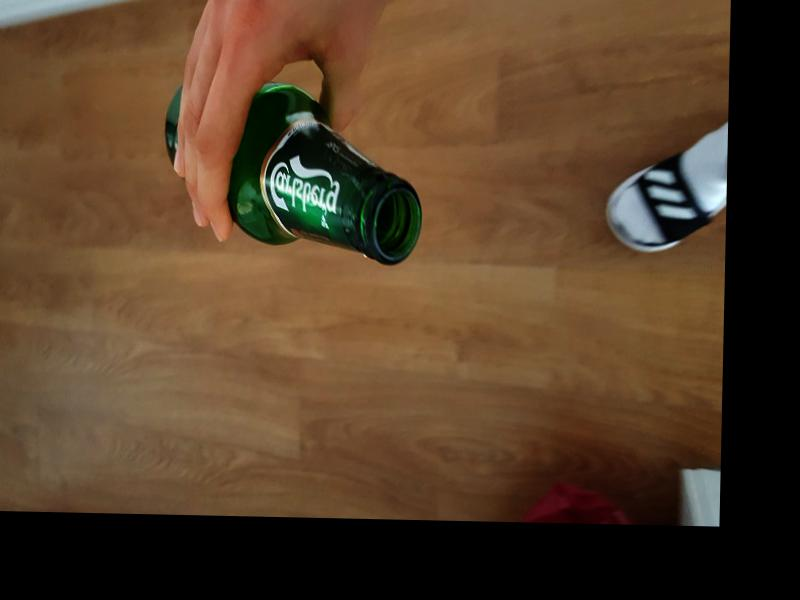Beer: (162, 81, 424, 267)
